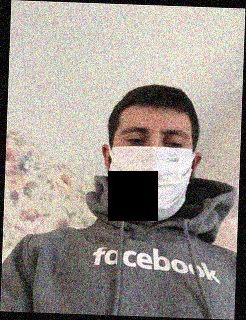with_mask: (109, 119, 193, 220)
